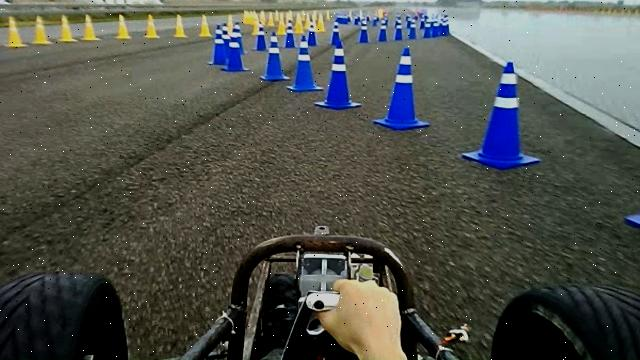blue cone: (462, 61, 541, 170), (373, 46, 430, 130), (314, 40, 362, 110), (286, 35, 324, 92), (260, 31, 290, 81), (220, 29, 250, 71), (208, 26, 228, 65)
yellow cone: (5, 16, 28, 47), (32, 15, 54, 44), (80, 14, 101, 41), (58, 14, 78, 42), (115, 13, 131, 39), (144, 13, 160, 39), (174, 14, 188, 38)
